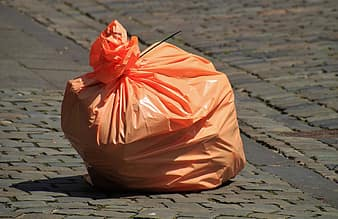plastic_bagwdw: (49, 8, 271, 219)
